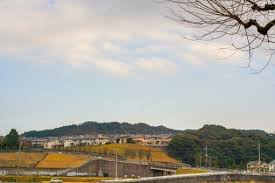field: (6, 127, 275, 182)
sky: (2, 1, 245, 125)
tree: (175, 1, 274, 64)
